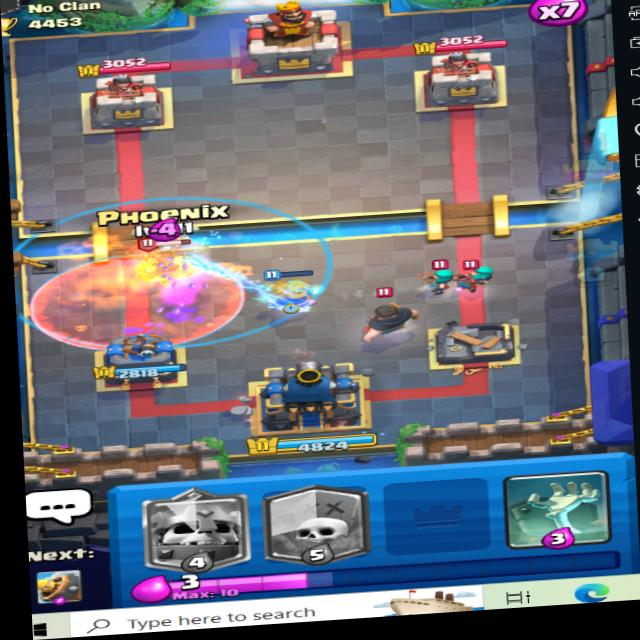cannon-cart: (145, 233, 199, 285)
rascal-boy: (361, 283, 427, 337)
rascal-girl: (416, 254, 463, 289), (458, 253, 499, 288)
